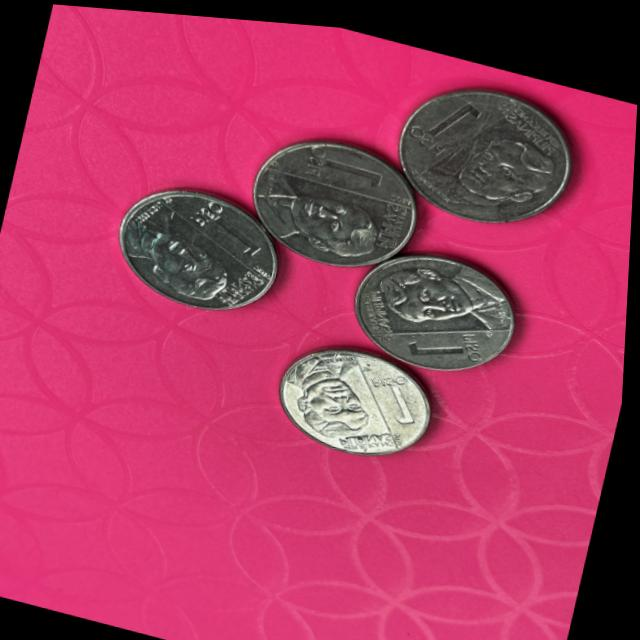1_New_Front: (403, 75, 495, 160), (398, 306, 496, 371), (294, 134, 393, 190), (185, 193, 274, 245), (363, 356, 429, 423)
